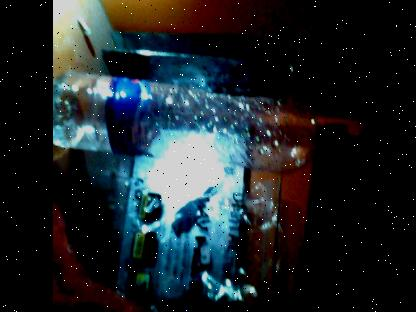Plastic Bottle: (52, 75, 348, 175)
